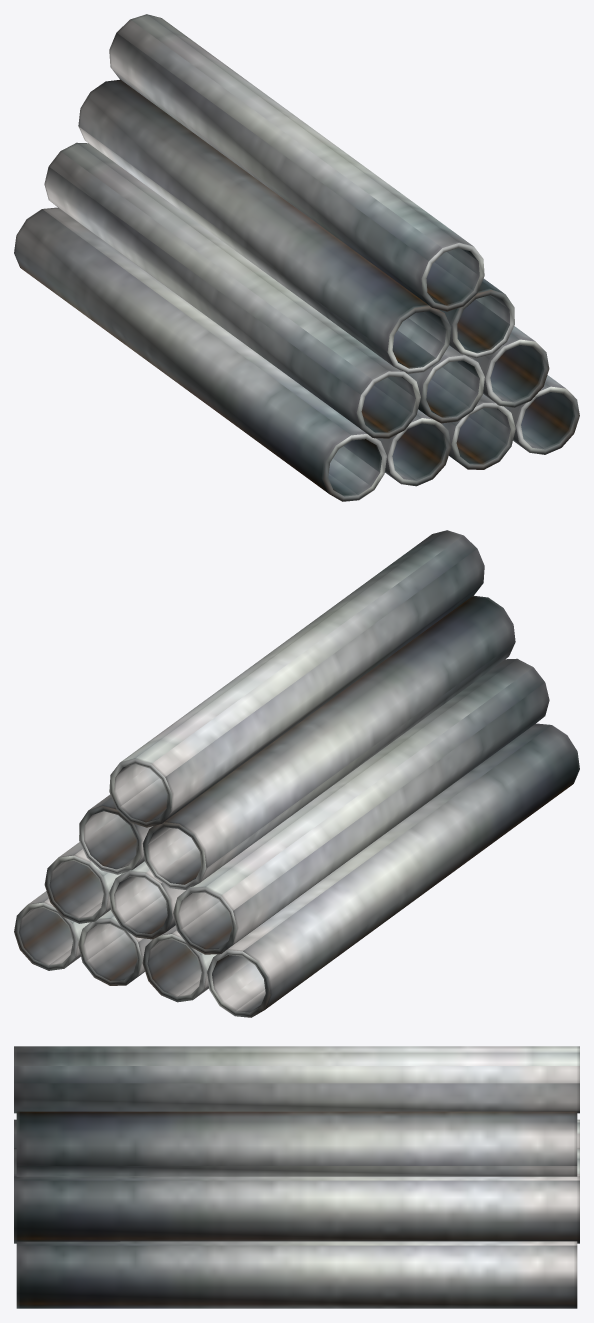
The model's file is psx_industrial_pack_metal_pipe_pile.glb.
3 renders of one model, top to bottom at view 1: azimuth 30°, elevation 25°; view 2: azimuth 150°, elevation 25°; view 3: azimuth 270°, elevation 25°, orthographic. The views are drawn at different scales.
Parts seen in each view (by area): view 1: MetalPipePile; view 2: MetalPipePile; view 3: MetalPipePile.
Boxes of the visible parts, x1,y1,x2,y2 form: MetalPipePile: [14, 14, 579, 501]; MetalPipePile: [14, 530, 579, 1017]; MetalPipePile: [14, 1046, 579, 1308].
Bounding box in the file's own units: 1.2 × 1.05 × 2.53.
1 material, 1 textured.
